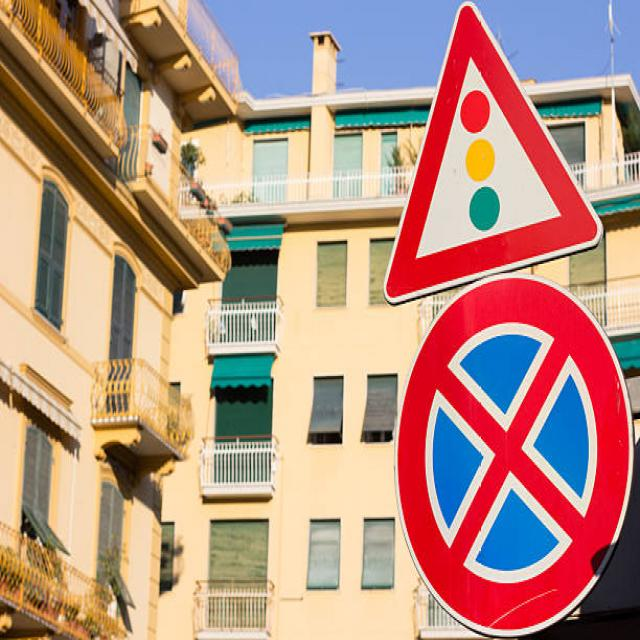no_parking: (393, 276, 640, 640)
